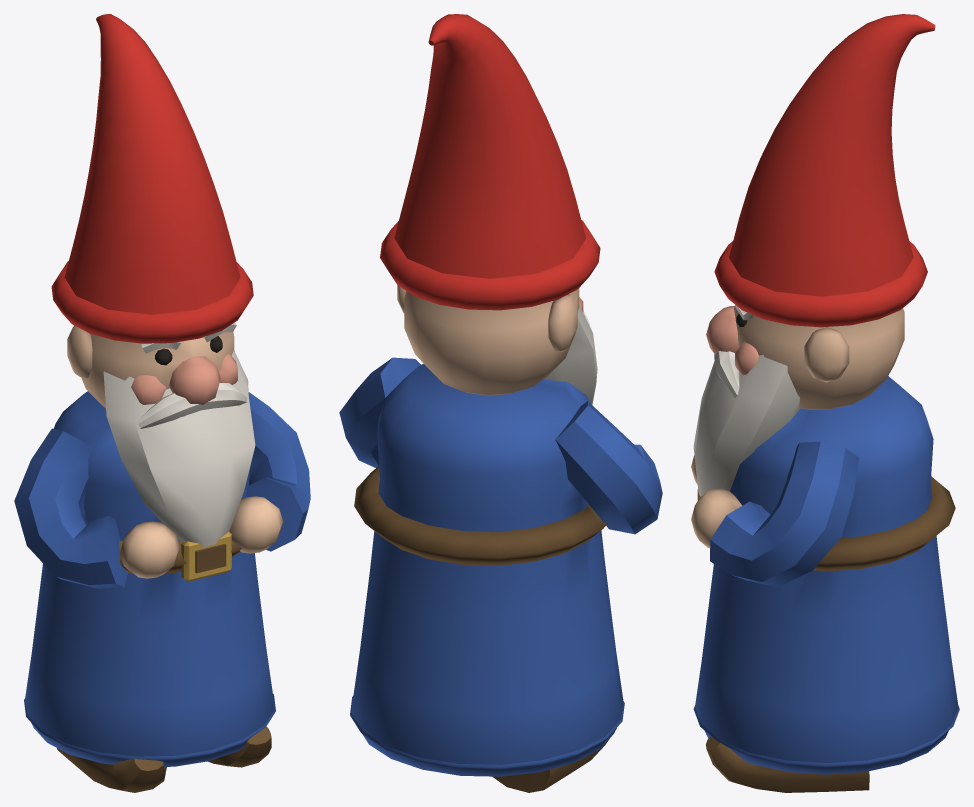
Rendered from gnome.glb.
The picture shows the model from 3 angles, left to right: view 1: azimuth 30°, elevation 25°; view 2: azimuth 150°, elevation 25°; view 3: azimuth 270°, elevation 25°; orthographic projection. The views are drawn at different scales.
Visible parts, largest first — view 1: gnome; view 2: gnome; view 3: gnome.
Part boxes in pixels (x1=…): gnome: x1=14, y1=14, x2=310, y2=792; gnome: x1=339, y1=14, x2=662, y2=792; gnome: x1=691, y1=14, x2=959, y2=792.
Size of the model in its own units: 0.2414 by 0.5931 by 0.1938.
